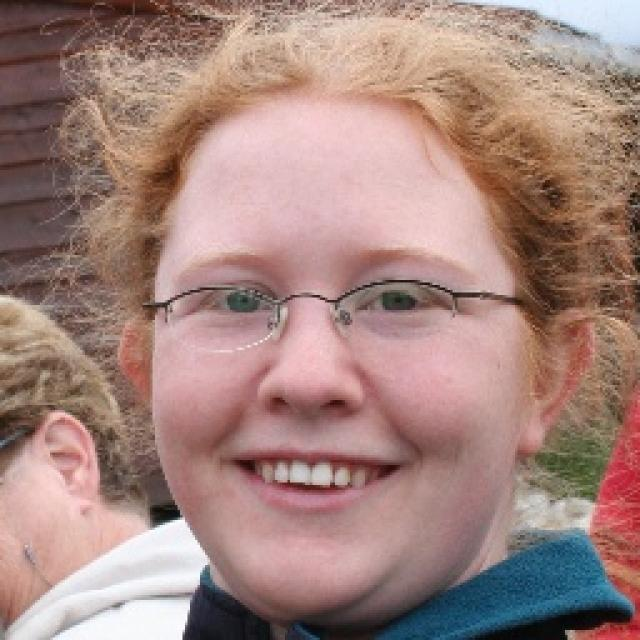earlobe: (520, 416, 547, 457), (68, 483, 98, 512)
eye: (198, 285, 275, 323), (366, 286, 434, 318)
nose: (265, 397, 354, 450)
wholeear: (520, 307, 595, 457), (30, 410, 98, 513)
